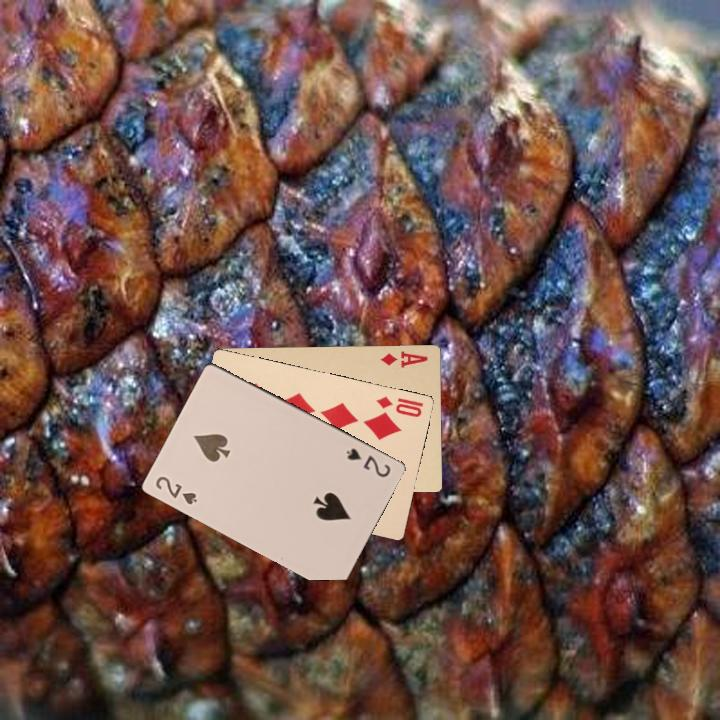10d: (372, 392, 426, 420)
2s: (343, 444, 393, 480), (151, 472, 200, 507)
Ad: (378, 347, 430, 370)
